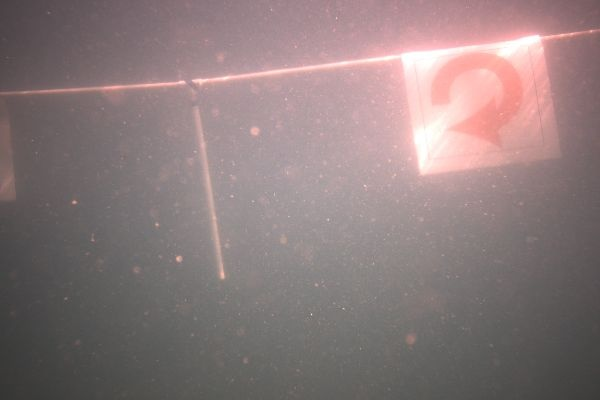gate: (0, 28, 600, 278)
gate_rouge: (402, 36, 560, 174)
